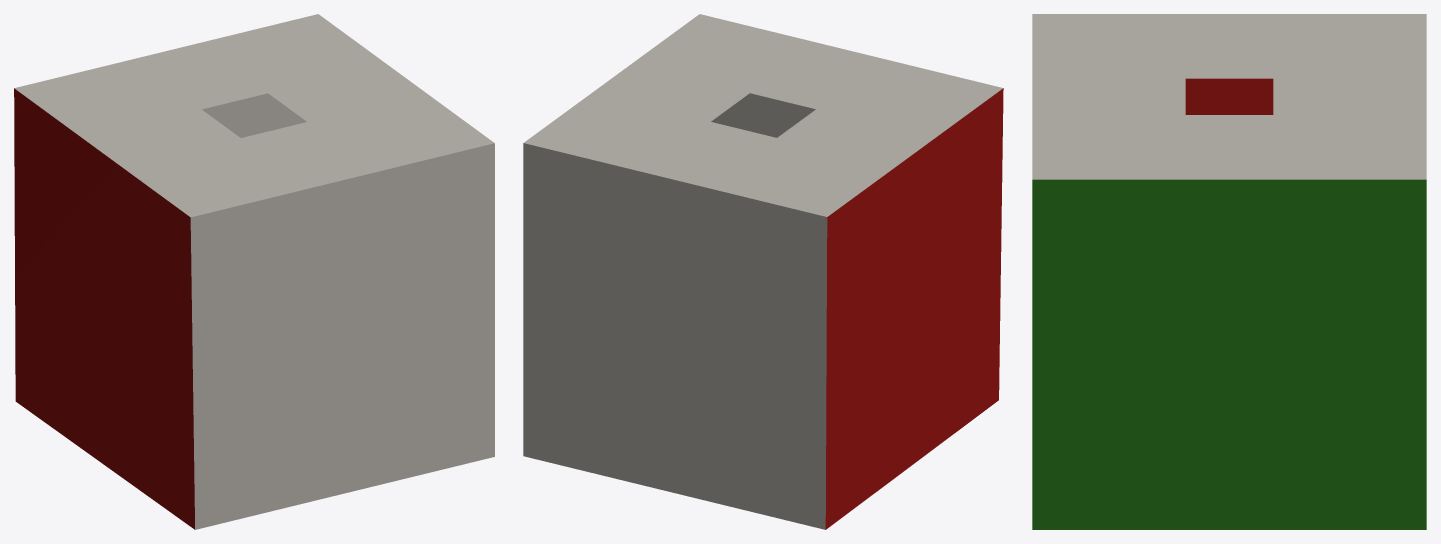
File: cbox.obj
The picture shows the model from 3 angles, left to right: view 1: azimuth 30°, elevation 25°; view 2: azimuth 150°, elevation 25°; view 3: azimuth 270°, elevation 25°; orthographic projection. The views are drawn at different scales.
Parts seen in each view (by area): view 1: CornellBox_Original.003, CornellBox_Original.005, CornellBox_Original, CornellBox_Original.002; view 2: CornellBox_Original.002, CornellBox_Original.005, CornellBox_Original, CornellBox_Original.003; view 3: CornellBox_Original.004, CornellBox_Original, CornellBox_Original.005.
Part boxes in pixels (x1,y1,x2,y2): CornellBox_Original.003: (190,143,494,529); CornellBox_Original.005: (14,88,194,529); CornellBox_Original: (14,14,494,217); CornellBox_Original.002: (202,93,306,137); CornellBox_Original.002: (523,143,827,529); CornellBox_Original.005: (825,88,1003,529); CornellBox_Original: (524,14,1002,216); CornellBox_Original.003: (711,93,815,137); CornellBox_Original.004: (1032,179,1426,529); CornellBox_Original: (1032,14,1426,179); CornellBox_Original.005: (1185,78,1273,114).
Bounding box in the file's own units: 2.02 × 1.99 × 2.03.
